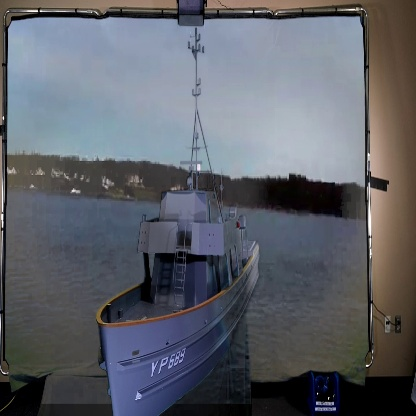YP689: (94, 28, 262, 416)
